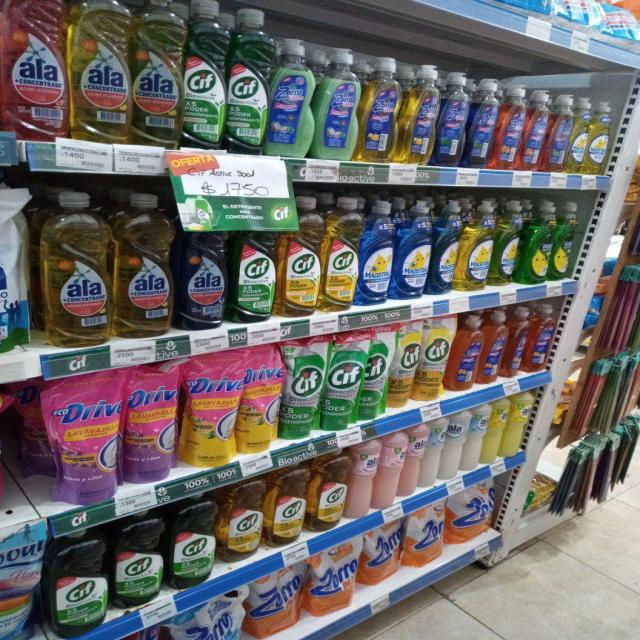ala_conc_amarillo: (37, 189, 111, 348), (113, 193, 174, 338), (69, 0, 130, 143), (132, 0, 182, 146)
ala_conc_azul: (177, 208, 228, 328)
ala_conc_rojo: (0, 0, 67, 140)
ala_crem_amarillo: (507, 392, 532, 457)
ala_crem_blanco: (444, 412, 465, 478), (466, 405, 486, 468), (426, 417, 444, 484)
cif_conc_bot_amarilla: (280, 196, 321, 316), (322, 195, 359, 311), (219, 480, 263, 562), (266, 467, 306, 547), (308, 454, 347, 532)
cif_conc_botella_verde: (182, 0, 226, 150), (46, 534, 108, 637), (226, 7, 268, 154), (230, 210, 276, 322), (112, 512, 164, 608), (168, 498, 215, 588)
cif_conc_sachet_amarillo: (417, 316, 447, 402), (389, 320, 417, 410)
cif_conc_sachet_verde: (282, 338, 322, 439), (323, 331, 360, 430), (361, 326, 388, 421)
drive: (44, 378, 120, 503), (124, 361, 180, 484), (184, 351, 238, 466), (240, 344, 280, 454)
magistral_con_amarillo: (459, 199, 493, 291), (494, 198, 520, 286), (588, 100, 612, 175), (570, 96, 589, 174)
magistral_con_azul: (359, 197, 394, 306), (395, 198, 431, 300), (432, 198, 458, 295)
magistral_con_verde: (522, 196, 557, 279), (554, 203, 579, 276)
zorro: (268, 38, 314, 157), (316, 46, 360, 161), (362, 55, 401, 163), (403, 62, 438, 166), (434, 70, 468, 165), (468, 76, 501, 165), (494, 86, 526, 170), (517, 91, 551, 170), (449, 314, 480, 392), (480, 310, 505, 384), (548, 92, 570, 170)
